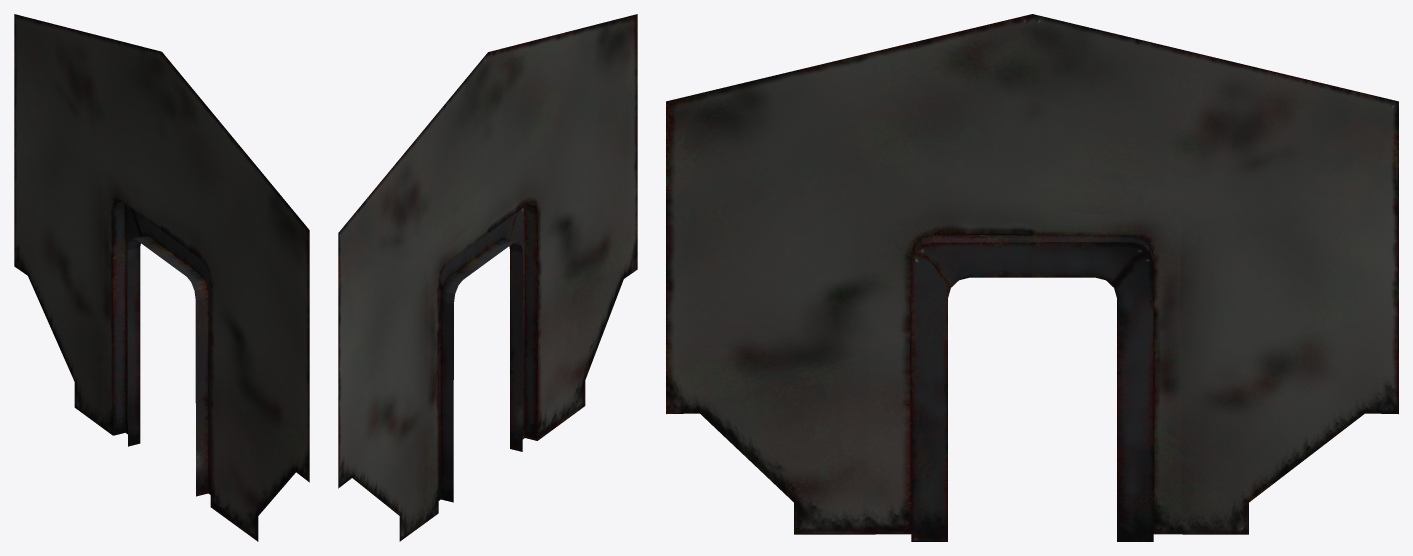
Rendered from AngeledTunnel Entrance_Standard.fbx.
3 renders of one model, left to right at view 1: azimuth 30°, elevation 25°; view 2: azimuth 150°, elevation 25°; view 3: azimuth 270°, elevation 25°, orthographic. The views are drawn at different scales.
Visible parts, largest first — view 1: Entrance_Standard; view 2: Entrance_Standard; view 3: Entrance_Standard.
Boxes of the visible parts, bbox=[...] form: Entrance_Standard: bbox=[14, 14, 309, 541]; Entrance_Standard: bbox=[338, 14, 637, 541]; Entrance_Standard: bbox=[666, 14, 1398, 541].
Size of the model in its own units: 1000 by 25 by 784.
